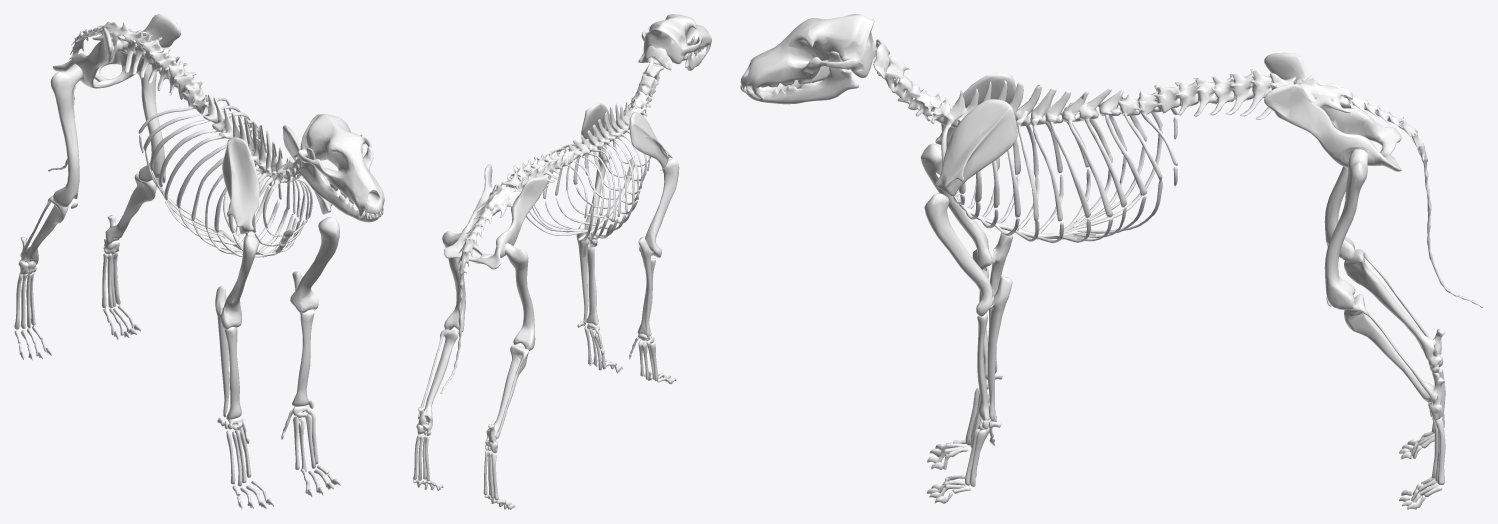
Rendered from skel.glb.
3 views of the same model, side by side, from view 1: azimuth 30°, elevation 25°; view 2: azimuth 150°, elevation 25°; view 3: azimuth 270°, elevation 25° (orthographic). The views are drawn at different scales.
Visible parts, largest first — view 1: Frontal_Bone, Ribcage_and_Sternum.464, Ribcage_and_Sternum.593, Sacroiliac_Joint, Scapula_L, Thigh_Bone_Femur_L, Humerus_R, Thigh_Bone_Femur_R, Tibia_R, Humerus_L, Fibula_L, Radius_R (+9 smaller); view 2: Ribcage_and_Sternum.464, Sacroiliac_Joint, Ribcage_and_Sternum.593, Frontal_Bone, Thigh_Bone_Femur_L, Tibia_R, Fibula_L, Humerus_L, Scapula_L, Sacrum, Thigh_Bone_Femur_R, Ribcage_and_Sternum.001 (+9 smaller); view 3: Ribcage_and_Sternum.464, Frontal_Bone, Ribcage_and_Sternum.593, Sacroiliac_Joint, Scapula_R, Thigh_Bone_Femur_R, Fibula_L, Tibia_R, Humerus_R, Humerus_L, Ribcage_and_Sternum.001, Sacrum (+4 smaller).
Part boxes in pixels (left/top/right/bottom): Frontal_Bone: left=297, top=114, right=384, bottom=222; Ribcage_and_Sternum.464: left=143, top=105, right=312, bottom=257; Ribcage_and_Sternum.593: left=168, top=61, right=303, bottom=182; Sacroiliac_Joint: left=52, top=14, right=180, bottom=88; Scapula_L: left=222, top=137, right=259, bottom=234; Thigh_Bone_Femur_L: left=50, top=63, right=83, bottom=207; Humerus_R: left=290, top=217, right=339, bottom=312; Thigh_Bone_Femur_R: left=137, top=64, right=165, bottom=183; Tibia_R: left=37, top=172, right=157, bottom=254; Humerus_L: left=220, top=235, right=259, bottom=329; Fibula_L: left=18, top=196, right=68, bottom=274; Radius_R: left=292, top=309, right=314, bottom=406; Ribcage_and_Sternum.464: left=526, top=137, right=650, bottom=242; Sacroiliac_Joint: left=444, top=164, right=547, bottom=269; Ribcage_and_Sternum.593: left=536, top=75, right=658, bottom=187; Frontal_Bone: left=641, top=14, right=711, bottom=70; Thigh_Bone_Femur_L: left=504, top=243, right=535, bottom=350; Tibia_R: left=416, top=329, right=458, bottom=435; Fibula_L: left=485, top=345, right=529, bottom=452; Humerus_L: left=639, top=158, right=679, bottom=257; Scapula_L: left=629, top=111, right=672, bottom=168; Sacrum: left=440, top=207, right=491, bottom=394; Thigh_Bone_Femur_R: left=442, top=231, right=465, bottom=331; Ribcage_and_Sternum.001: left=477, top=172, right=525, bottom=217; Ribcage_and_Sternum.464: left=935, top=103, right=1162, bottom=242; Frontal_Bone: left=740, top=14, right=876, bottom=104; Ribcage_and_Sternum.593: left=892, top=75, right=1199, bottom=128; Sacroiliac_Joint: left=1264, top=52, right=1401, bottom=171; Scapula_R: left=935, top=99, right=1017, bottom=196; Thigh_Bone_Femur_R: left=1324, top=149, right=1368, bottom=310; Fibula_L: left=1344, top=249, right=1444, bottom=372; Tibia_R: left=1344, top=294, right=1444, bottom=419; Humerus_R: left=924, top=193, right=995, bottom=316; Humerus_L: left=920, top=143, right=992, bottom=269; Ribcage_and_Sternum.001: left=1256, top=73, right=1354, bottom=119; Sacrum: left=1352, top=93, right=1483, bottom=307.
Bounding box in the file's own units: 5.41 × 18.09 × 26.18.
Materials: 1 (1 with a texture image).
